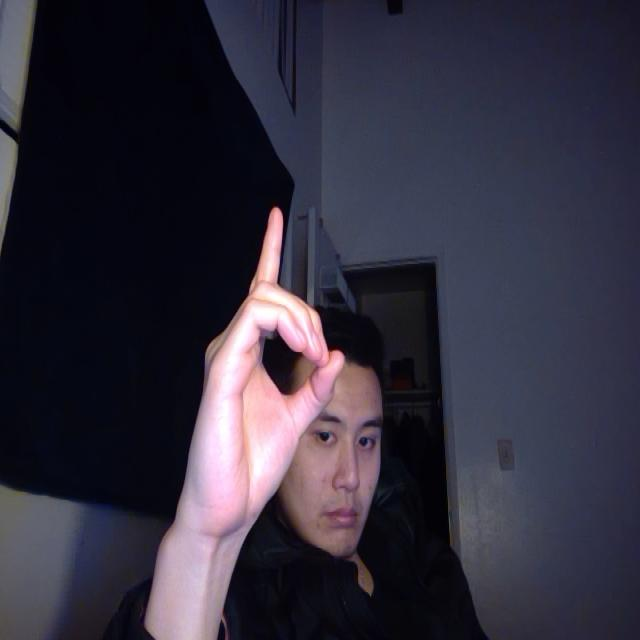D: (166, 185, 368, 552)
